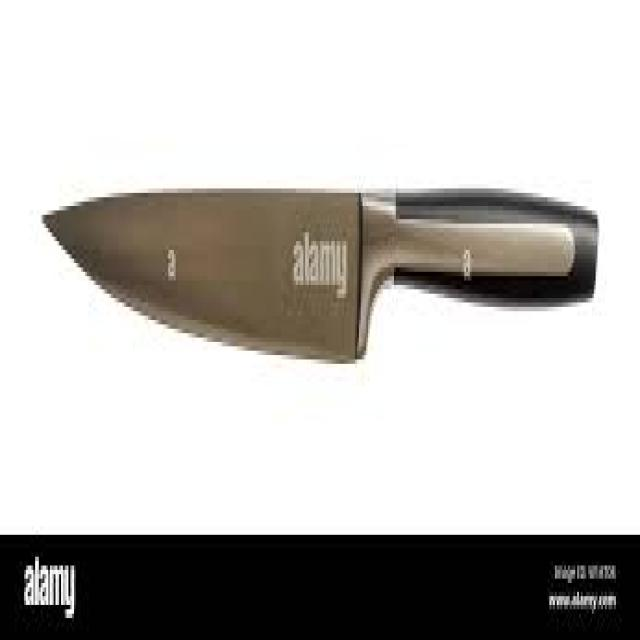Knife: (40, 184, 598, 360)
